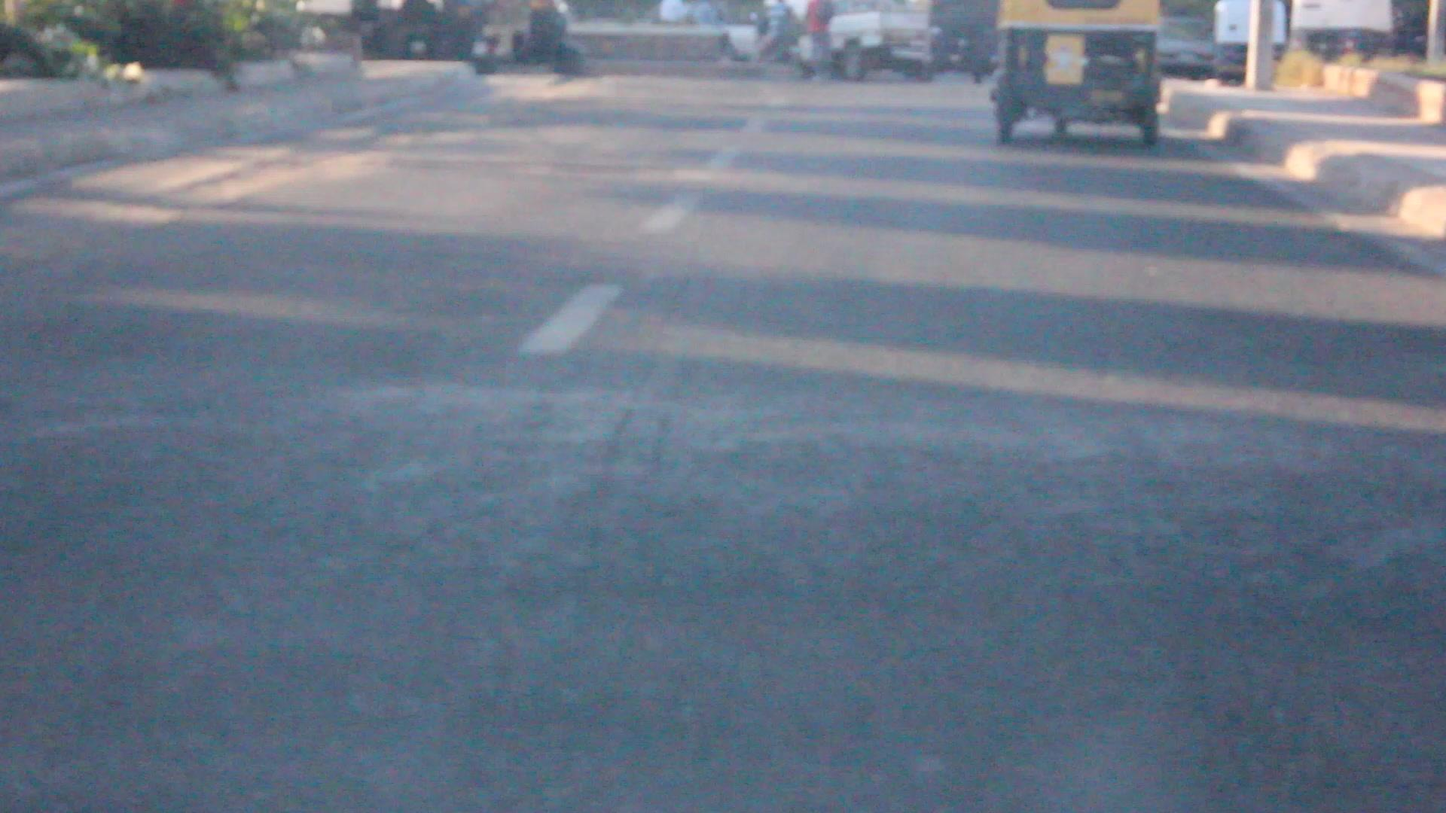Bump: (0, 382, 1446, 664)
